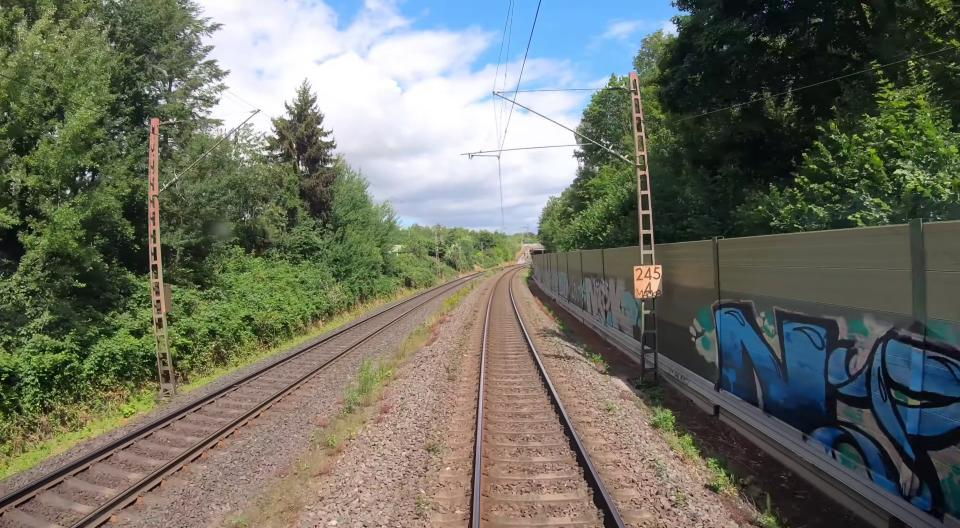Plant: (228, 280, 478, 528), (650, 405, 699, 460), (705, 458, 737, 494), (756, 494, 786, 528), (583, 347, 609, 373), (552, 312, 571, 333), (426, 442, 440, 454), (380, 404, 391, 415), (604, 402, 615, 412), (447, 373, 458, 381), (466, 320, 474, 325)
